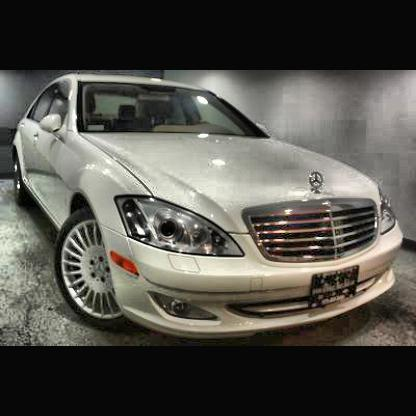Mercedes-Benz S-Class Sedan 2012: (16, 75, 404, 333)
